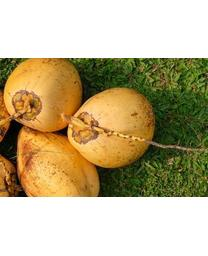coconut: (70, 87, 156, 170), (4, 58, 84, 137), (17, 126, 101, 200)
